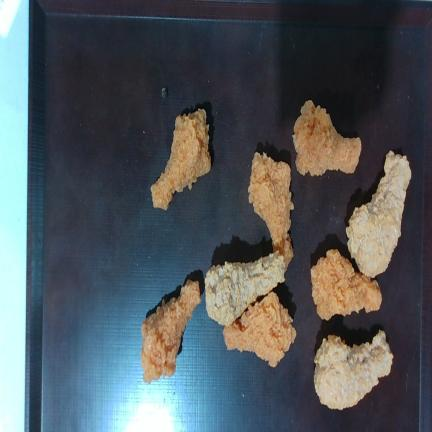chicken: (346, 151, 411, 277), (314, 331, 393, 409), (140, 280, 200, 382), (151, 109, 211, 210), (205, 251, 285, 325), (223, 292, 296, 367), (248, 152, 294, 271), (293, 100, 361, 176), (311, 250, 381, 319)
